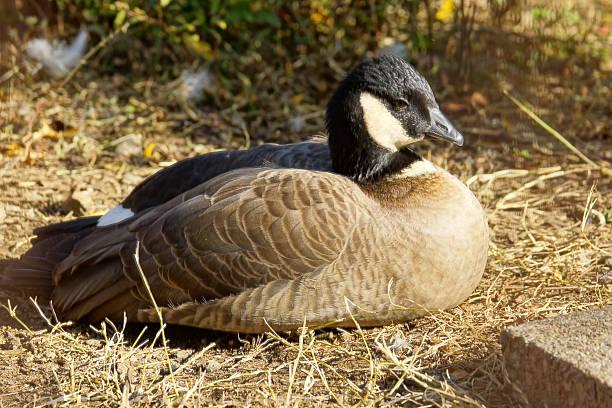Canadian-Goose: (17, 56, 492, 330)
